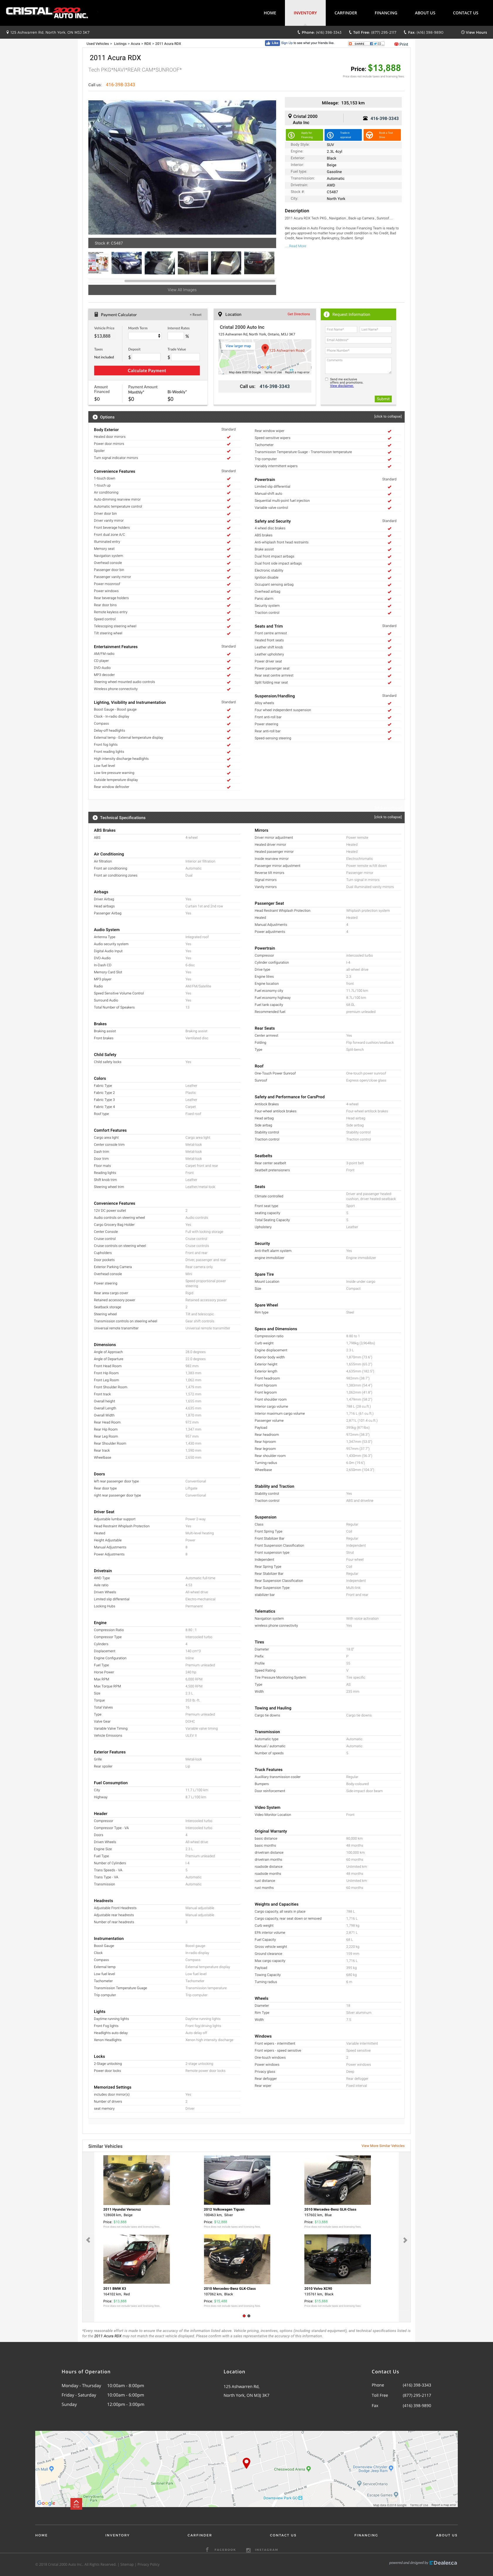car: (265, 161, 276, 174)
